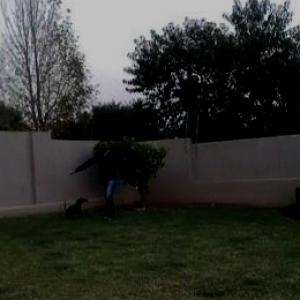land: (82, 123, 161, 231)
